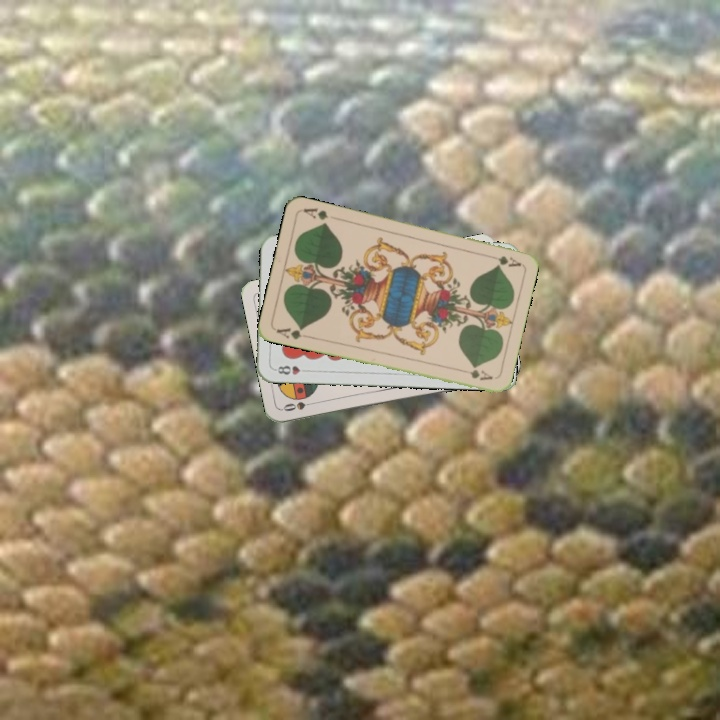GA: (272, 323, 312, 342), (483, 250, 523, 269)
H8: (271, 362, 311, 377)
SO: (279, 397, 320, 414)
